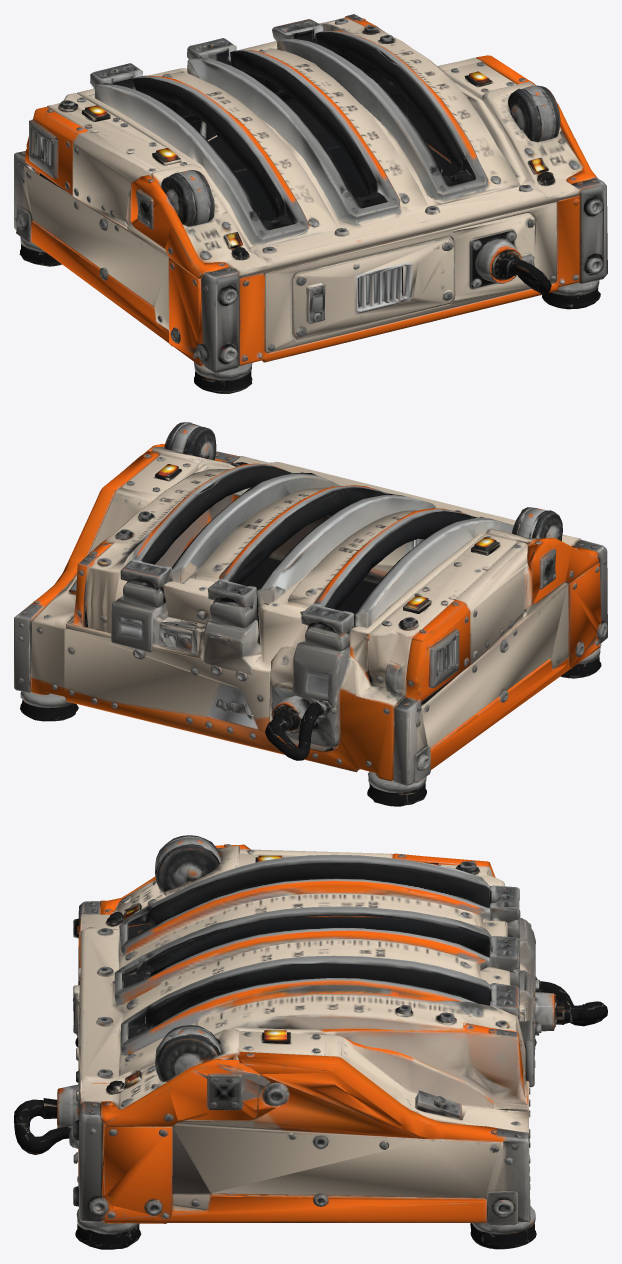
The model's file is ThrottlePod_T25.glb.
3 renders of one model, top to bottom at view 1: azimuth 30°, elevation 25°; view 2: azimuth 150°, elevation 25°; view 3: azimuth 270°, elevation 25°, orthographic. The views are drawn at different scales.
Size of the model in its own units: 0.8433 by 0.3784 by 0.9478.
1 material, 1 textured.
